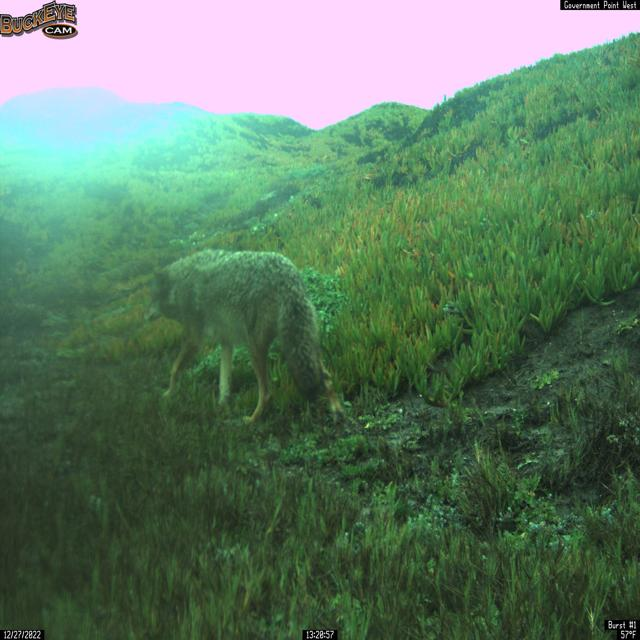coyote: (142, 247, 347, 428)
